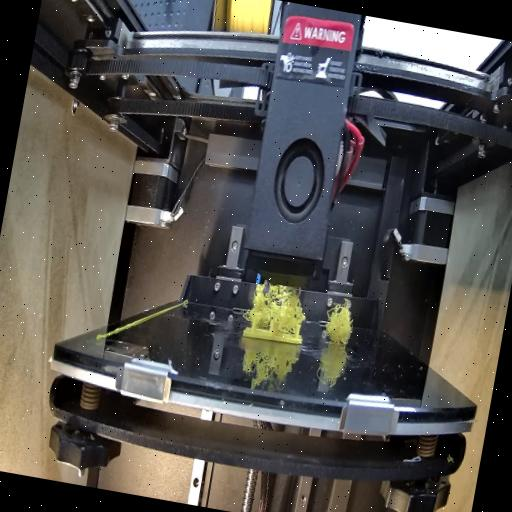spaghetti: (240, 268, 312, 338), (320, 296, 358, 348)
